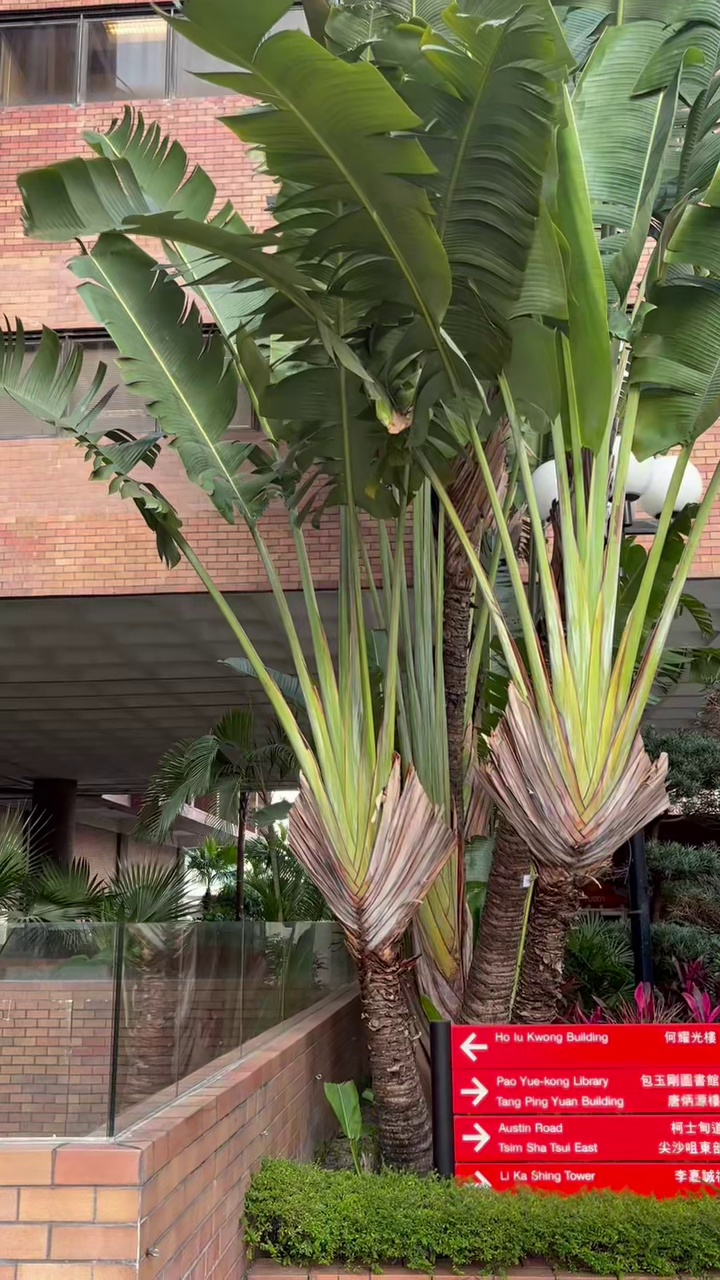Travellers-tree: (18, 0, 719, 1171)
